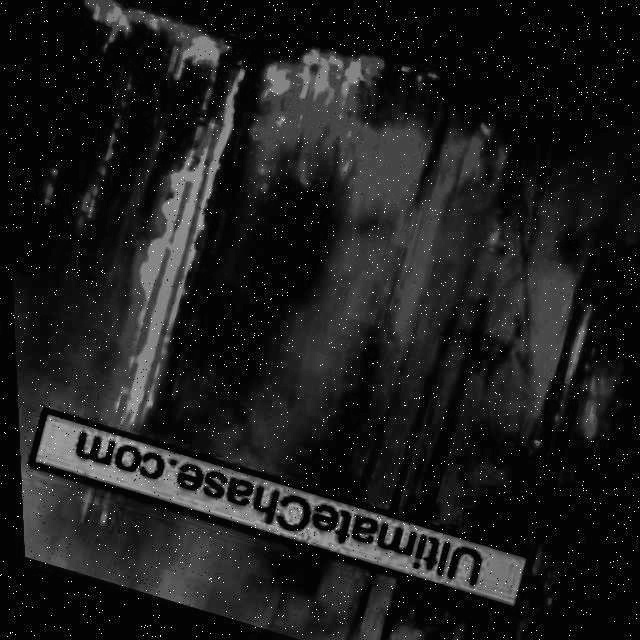Fire: (89, 65, 253, 444), (235, 35, 399, 185), (505, 282, 640, 458), (61, 76, 141, 230), (75, 0, 217, 65), (488, 542, 575, 640), (30, 134, 74, 202)
Smoke: (151, 0, 640, 577)
